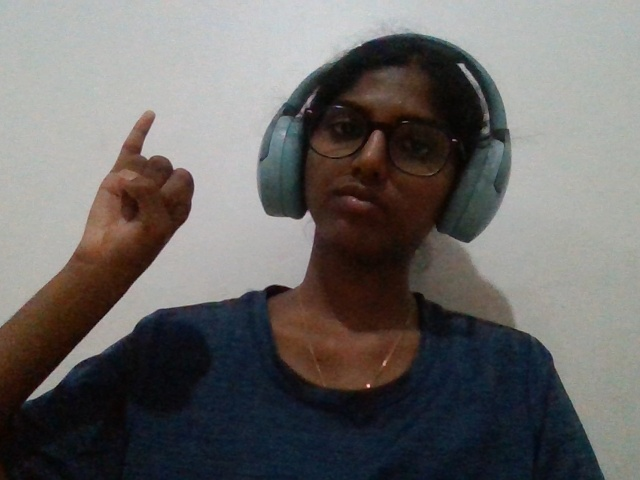I: (37, 104, 238, 339)
